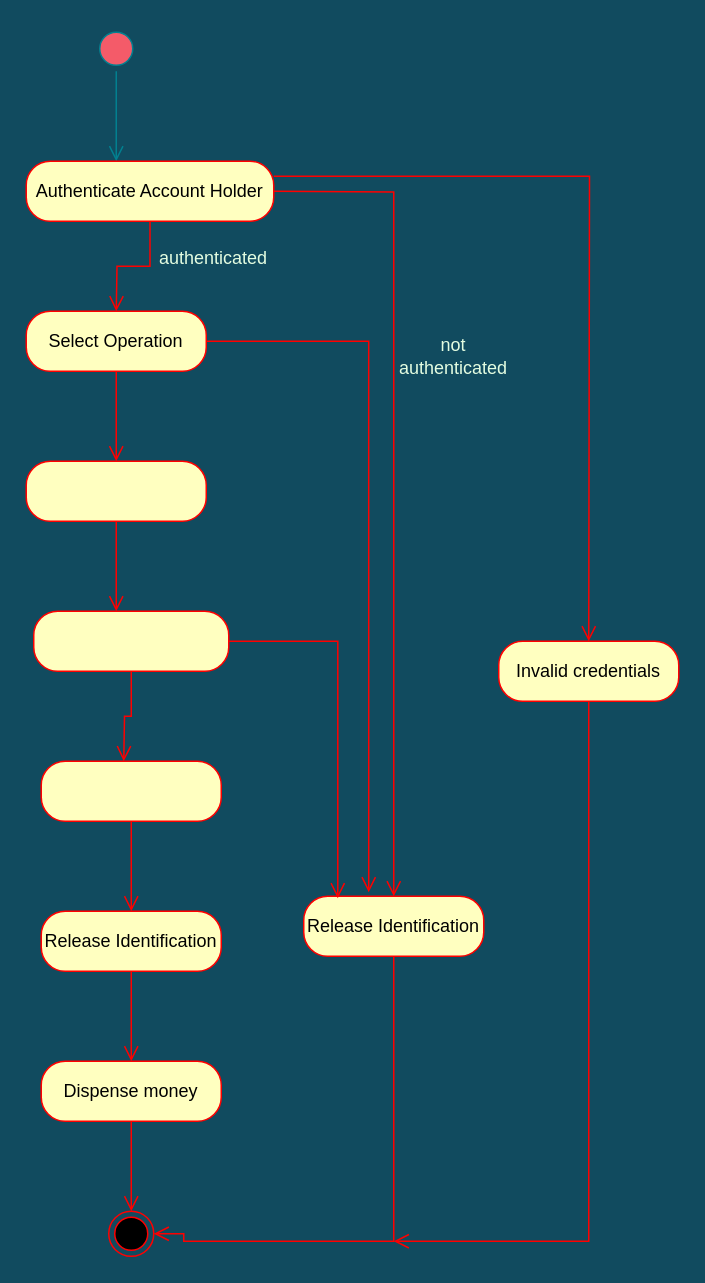
This 705x1283 diagram has some shape labels left out. The centre of each missing label's shape, as x and y in pixels:
"Authorize Withdrawal" belongs at pixel 130 640.
"Select Amount" belongs at pixel 115 490.
"Show Balance" belongs at pixel 130 790.
